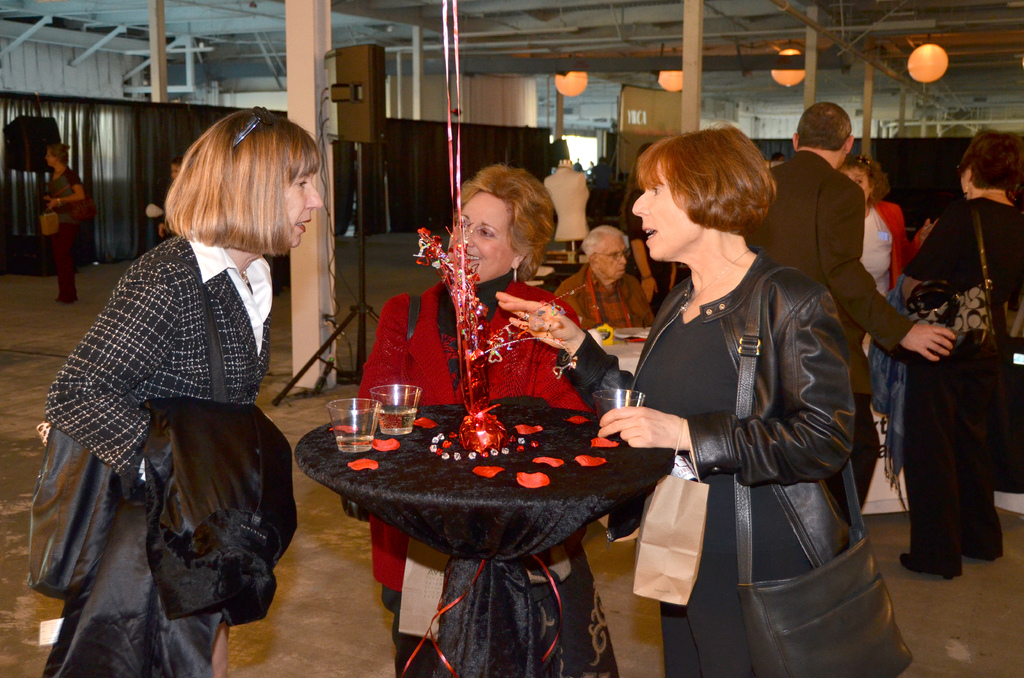Footwear: (900, 547, 965, 576), (963, 537, 1004, 560)
